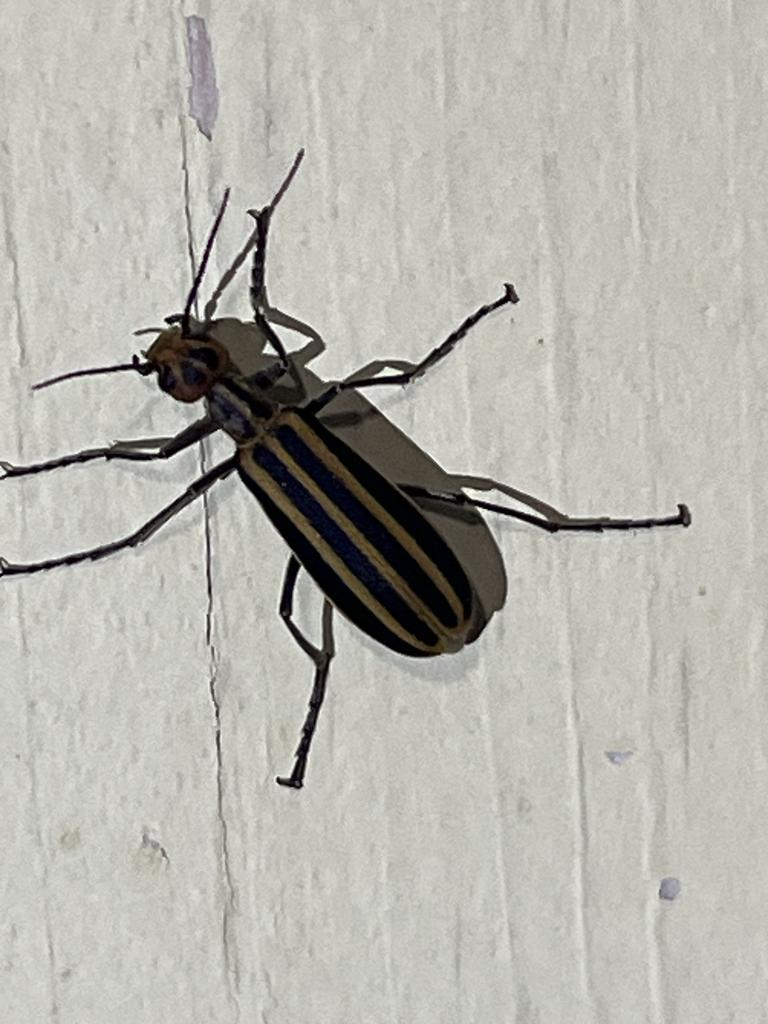blister_beetle: (0, 118, 727, 849)
